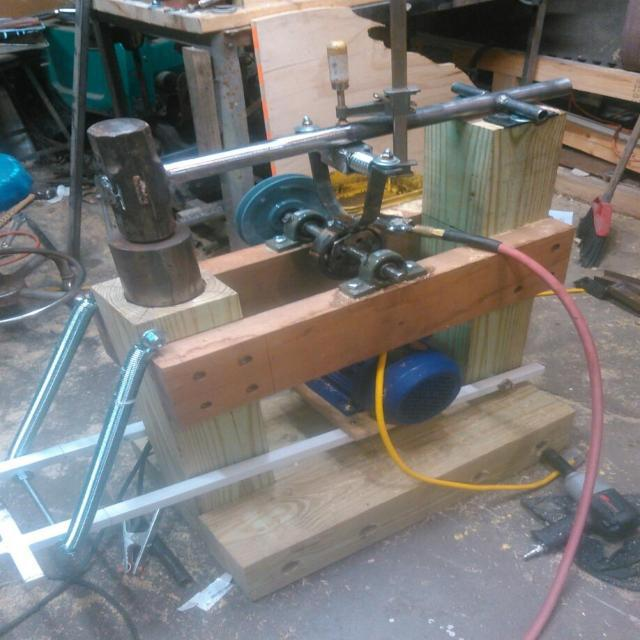hammer: (63, 109, 357, 242)
